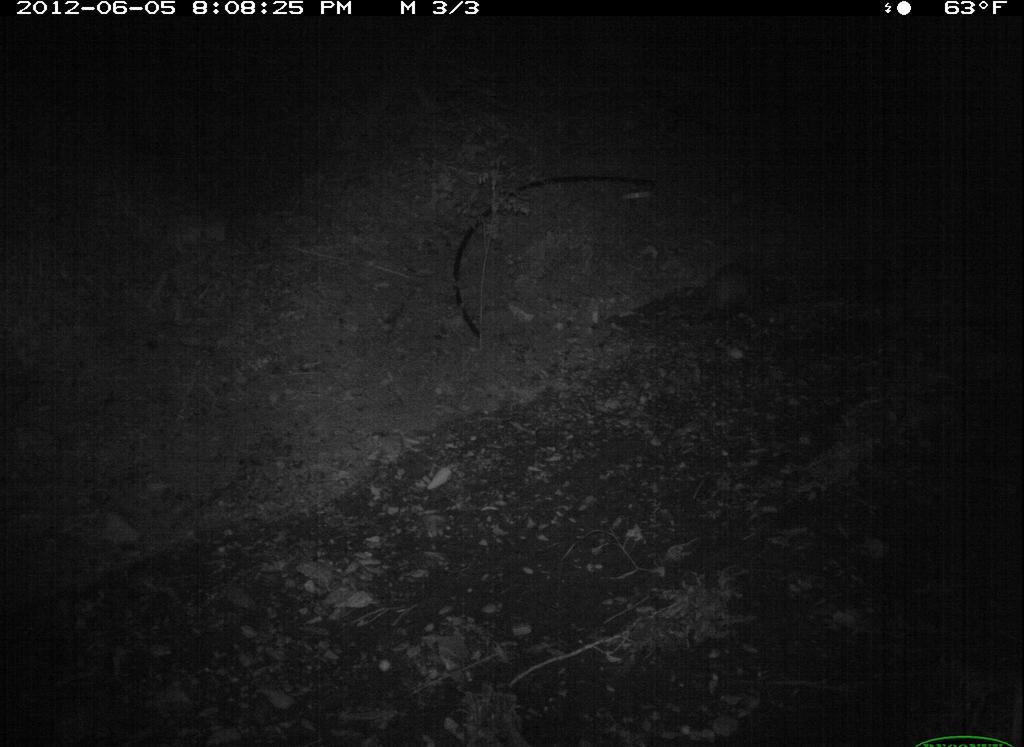opossum: (683, 250, 781, 338)
